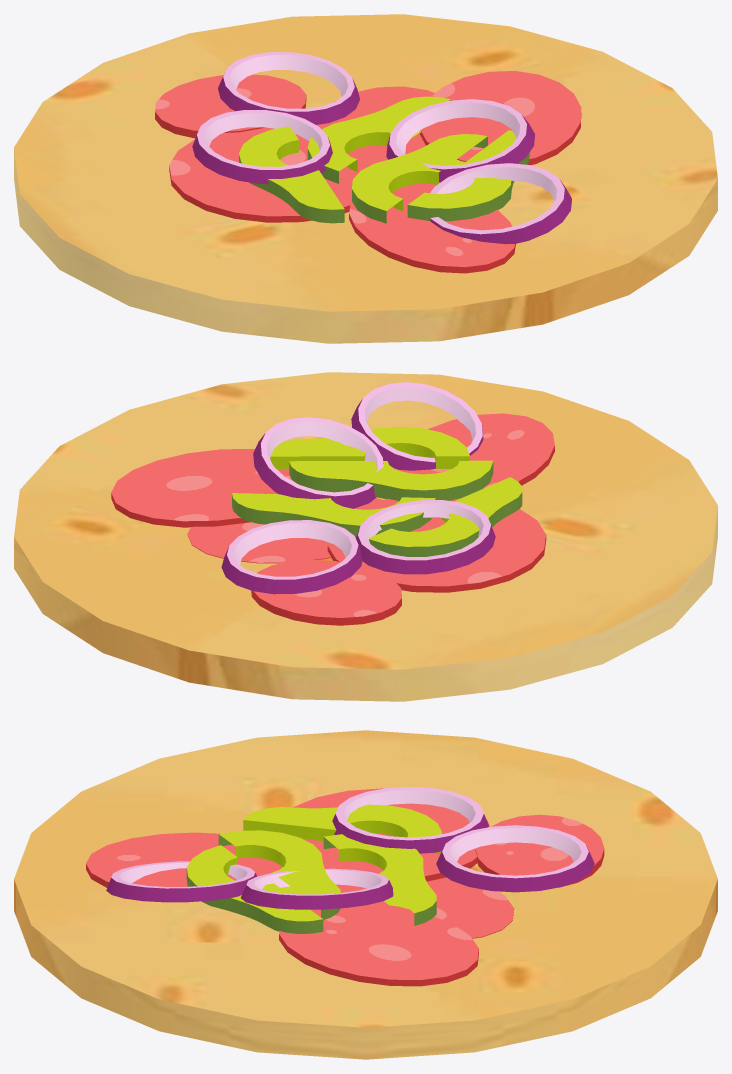
File: taco_Carne_Cebolla_Aguacate.glb
The picture shows the model from 3 angles, top to bottom: view 1: azimuth 30°, elevation 25°; view 2: azimuth 150°, elevation 25°; view 3: azimuth 270°, elevation 25°; orthographic projection.
Parts seen in each view (by area): view 1: tortilla.002, Ham_Slice_Ham_0.002, Avocado_Slice_Avocado_0, Onion_Slice_Onion_0, Onion_Slice_Onion_0.001; view 2: tortilla.002, Ham_Slice_Ham_0.002, Avocado_Slice_Avocado_0, Onion_Slice_Onion_0, Onion_Slice_Onion_0.001; view 3: tortilla.002, Ham_Slice_Ham_0.002, Avocado_Slice_Avocado_0, Onion_Slice_Onion_0, Onion_Slice_Onion_0.001.
Part boxes in pixels (left/top/right/bottom): tortilla.002: left=14, top=14, right=717, bottom=343; Ham_Slice_Ham_0.002: left=155, top=71, right=581, bottom=273; Avocado_Slice_Avocado_0: left=239, top=96, right=529, bottom=223; Onion_Slice_Onion_0: left=192, top=52, right=359, bottom=184; Onion_Slice_Onion_0.001: left=386, top=99, right=571, bottom=244; tortilla.002: left=14, top=372, right=717, bottom=701; Ham_Slice_Ham_0.002: left=111, top=413, right=554, bottom=625; Avocado_Slice_Avocado_0: left=232, top=426, right=522, bottom=556; Onion_Slice_Onion_0: left=221, top=500, right=495, bottom=594; Onion_Slice_Onion_0.001: left=253, top=382, right=483, bottom=508; tortilla.002: left=14, top=730, right=717, bottom=1059; Ham_Slice_Ham_0.002: left=86, top=788, right=604, bottom=986; Avocado_Slice_Avocado_0: left=186, top=804, right=442, bottom=933; Onion_Slice_Onion_0: left=332, top=786, right=594, bottom=892; Onion_Slice_Onion_0.001: left=106, top=861, right=393, bottom=909.
Size of the model in its own units: 0.2118 by 0.0248 by 0.2118.
4 materials, 4 textured.
